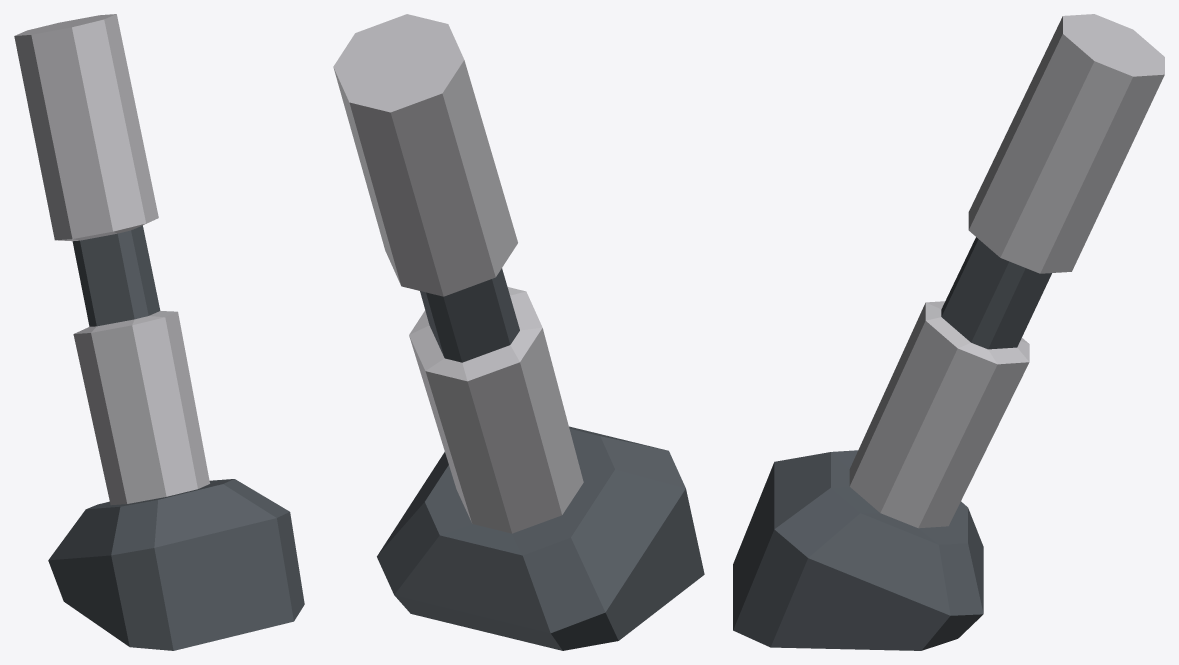
File: Dropship_04_Lander_Front.fbx
The picture shows the model from 3 angles, left to right: view 1: azimuth 30°, elevation 25°; view 2: azimuth 150°, elevation 25°; view 3: azimuth 270°, elevation 25°; orthographic projection. The views are drawn at different scales.
Visible parts, largest first — view 1: Dropship_04_Lander_Front; view 2: Dropship_04_Lander_Front; view 3: Dropship_04_Lander_Front.
Part boxes in pixels (x1=…): Dropship_04_Lander_Front: x1=14, y1=14, x2=304, y2=650; Dropship_04_Lander_Front: x1=333, y1=14, x2=704, y2=650; Dropship_04_Lander_Front: x1=733, y1=14, x2=1164, y2=650.
Bounding box in the file's own units: 81.34 × 227 × 150.
Materials: 1 (1 with a texture image).
